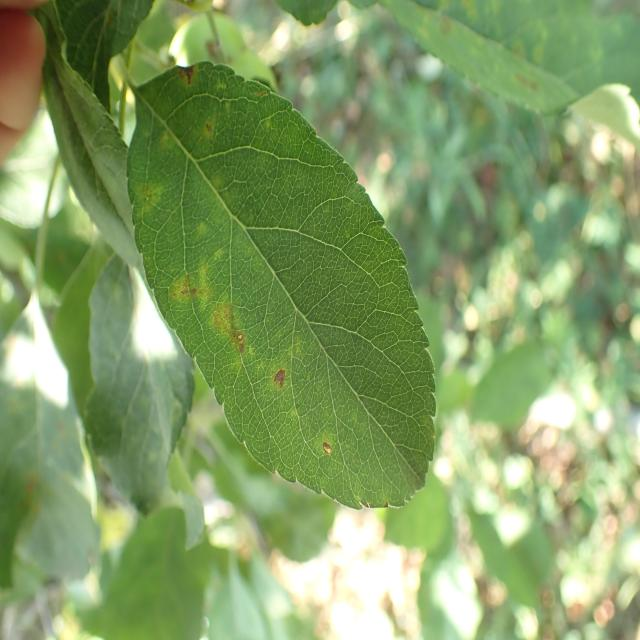scab: (116, 43, 402, 519)
